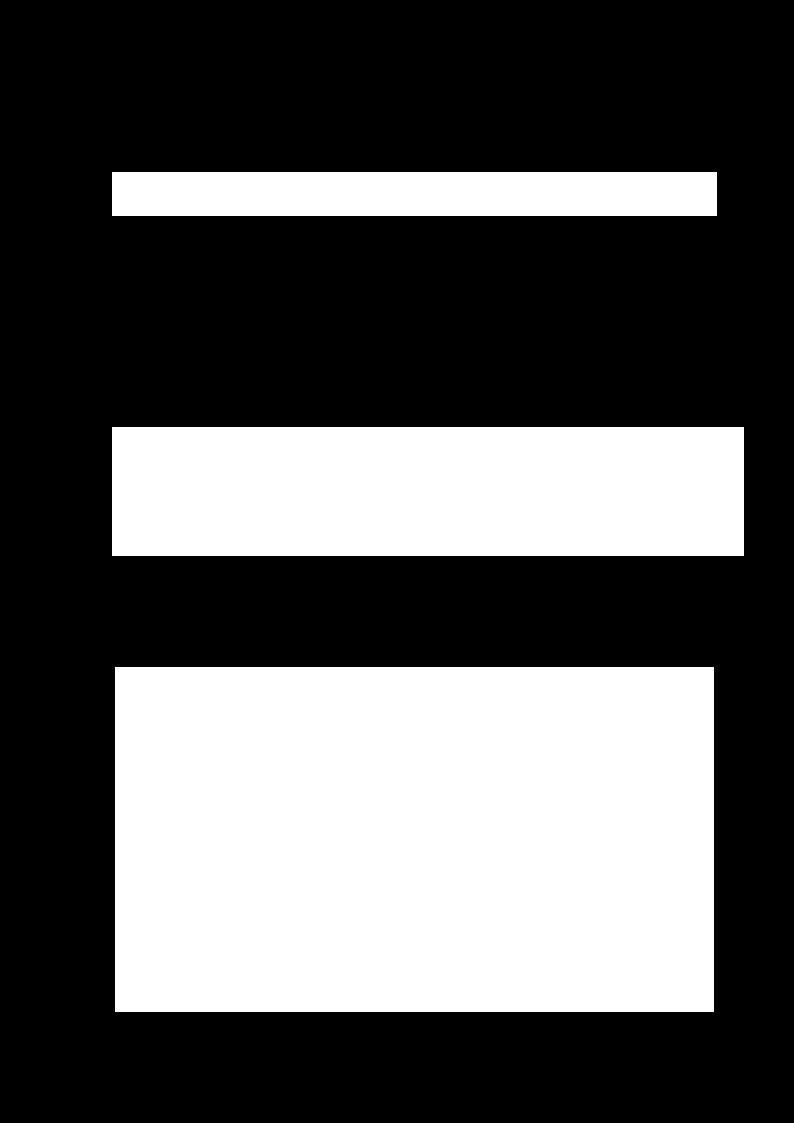table: (115, 667, 713, 1011), (112, 427, 743, 555), (112, 172, 716, 215)
